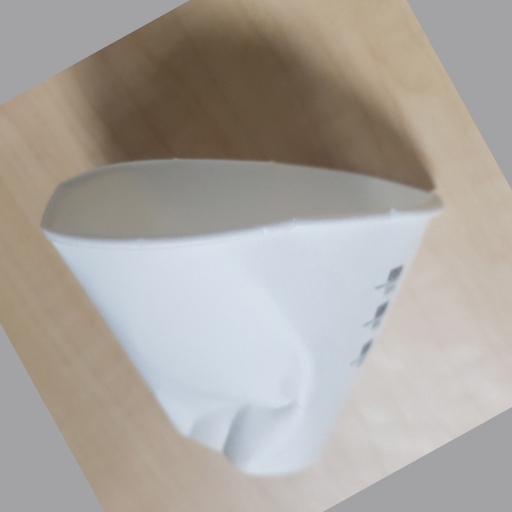Paper_1: (37, 158, 445, 476)
